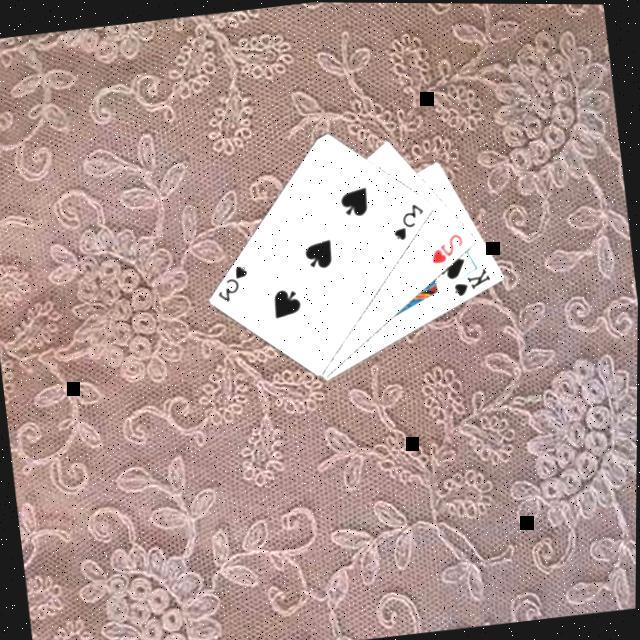2H: (427, 228, 471, 267)
3S: (389, 198, 432, 244), (213, 262, 256, 306)
KS: (450, 263, 497, 299)
